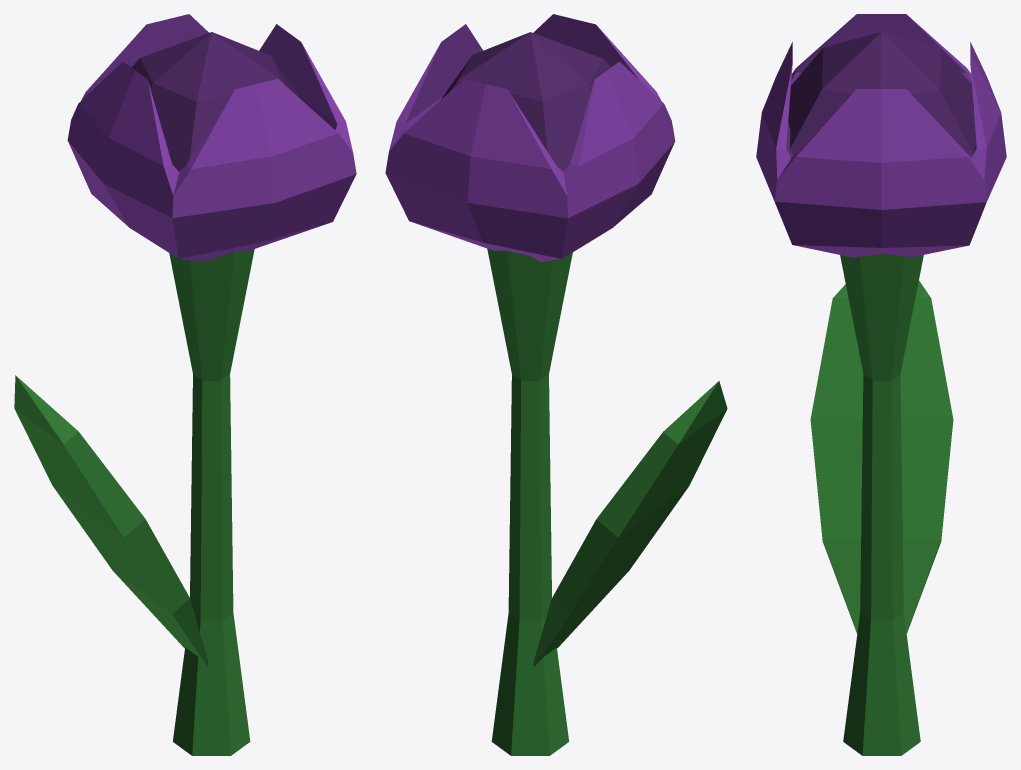
The model's file is Flower_3_Purple.fbx.
3 views of the same model, side by side, from view 1: azimuth 30°, elevation 25°; view 2: azimuth 150°, elevation 25°; view 3: azimuth 270°, elevation 25° (orthographic).
Parts seen in each view (by area): view 1: Flower_3_Pink_Part_2, Flower_3_Pink_Part_1, Flower_3_Pink_Part_3; view 2: Flower_3_Pink_Part_2, Flower_3_Pink_Part_1, Flower_3_Pink_Part_3; view 3: Flower_3_Pink_Part_1, Flower_3_Pink_Part_2, Flower_3_Pink_Part_3.
Part boxes in pixels (x1,y1,x2,y2): Flower_3_Pink_Part_2: [67, 14, 356, 262]; Flower_3_Pink_Part_1: [14, 249, 254, 755]; Flower_3_Pink_Part_3: [131, 32, 299, 171]; Flower_3_Pink_Part_2: [385, 14, 675, 261]; Flower_3_Pink_Part_1: [487, 248, 727, 755]; Flower_3_Pink_Part_3: [441, 32, 610, 171]; Flower_3_Pink_Part_1: [810, 254, 953, 755]; Flower_3_Pink_Part_2: [756, 14, 1006, 257]; Flower_3_Pink_Part_3: [788, 31, 976, 156].
Size of the model in its own units: 24.43 by 55 by 17.59.
